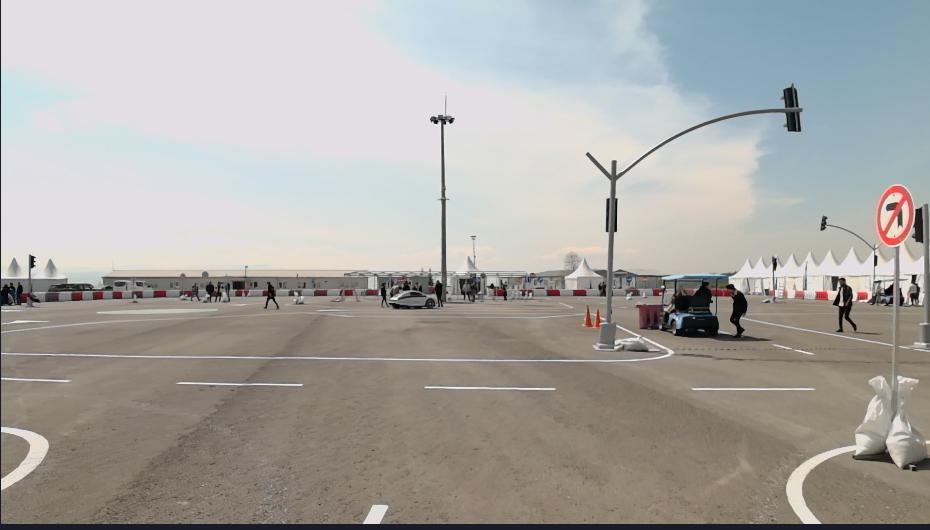nesne: (0, 320, 930, 522), (357, 378, 872, 523), (0, 373, 428, 524), (0, 322, 675, 361), (851, 373, 929, 471), (785, 442, 853, 523), (656, 272, 727, 334), (0, 424, 50, 490), (873, 183, 915, 249), (29, 288, 191, 302), (829, 273, 858, 332), (723, 283, 748, 337), (486, 286, 601, 297), (862, 277, 905, 304), (386, 287, 439, 308), (422, 384, 556, 391), (177, 381, 304, 387), (690, 385, 816, 391), (361, 502, 389, 523), (0, 376, 72, 384), (636, 303, 659, 327), (263, 279, 279, 311), (906, 277, 921, 306), (212, 280, 231, 301), (203, 277, 216, 305), (433, 278, 445, 308), (189, 278, 201, 301), (582, 303, 593, 327), (8, 279, 18, 305), (379, 280, 388, 308), (0, 281, 10, 305), (527, 285, 546, 296), (338, 287, 356, 297), (15, 281, 23, 303), (814, 288, 828, 300), (30, 292, 46, 302), (57, 291, 73, 301), (44, 291, 58, 302), (592, 309, 601, 326), (80, 290, 94, 300), (326, 286, 340, 296), (545, 288, 559, 298), (247, 288, 264, 296), (152, 289, 167, 298), (166, 288, 181, 297), (354, 287, 369, 296), (585, 287, 600, 296), (856, 291, 868, 302), (289, 288, 303, 297), (301, 287, 315, 296), (572, 289, 586, 298), (640, 287, 654, 296), (70, 290, 82, 300), (558, 288, 573, 296), (612, 288, 627, 296), (804, 290, 816, 300), (275, 289, 292, 296), (716, 287, 729, 296), (92, 290, 103, 300), (795, 289, 806, 299), (110, 290, 121, 299), (120, 291, 132, 299), (627, 288, 639, 296), (102, 290, 111, 300), (787, 288, 796, 298), (653, 288, 664, 296), (313, 288, 327, 294), (774, 289, 783, 298), (132, 290, 142, 298), (486, 289, 496, 297), (142, 290, 152, 297), (368, 287, 378, 294), (782, 288, 788, 299), (235, 289, 243, 296), (242, 289, 249, 296), (230, 289, 236, 296)
